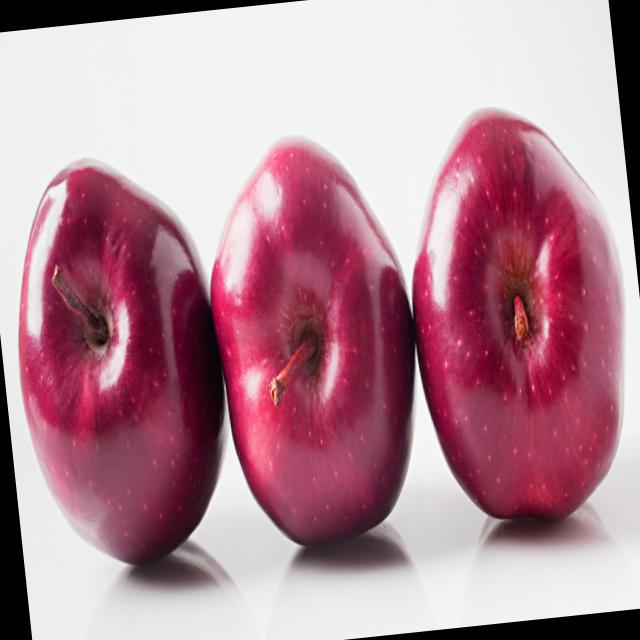Fresh_Apple: (190, 94, 436, 575), (393, 74, 640, 552), (0, 117, 242, 581)
